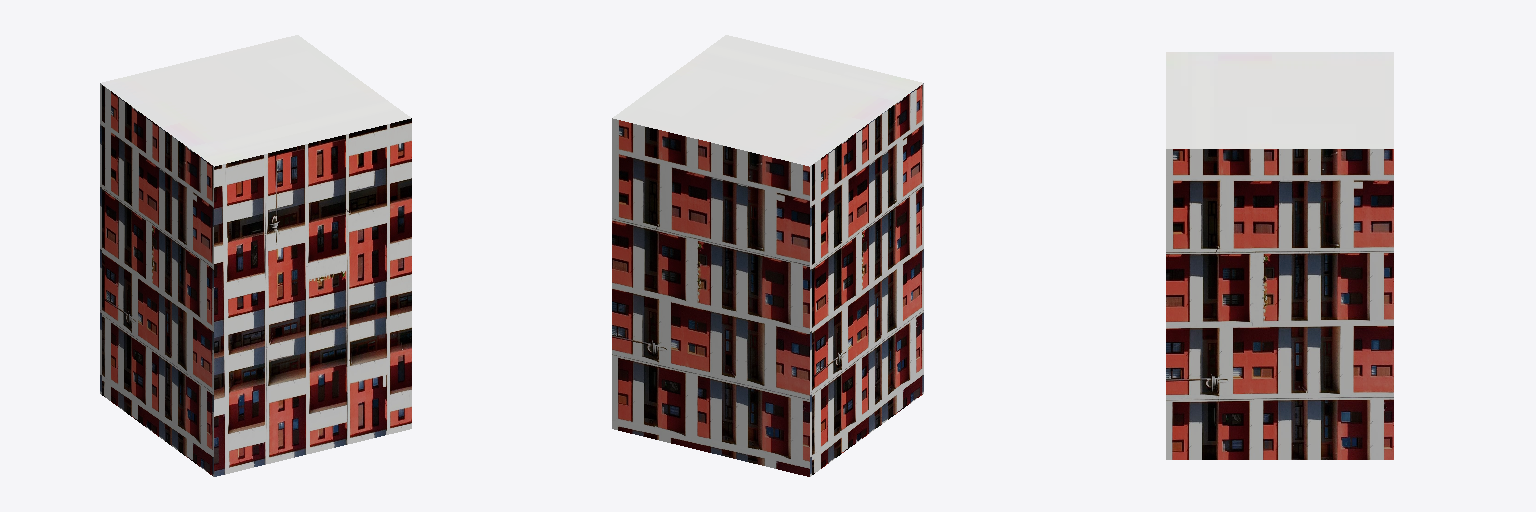
The picture shows the model from 3 angles: view 1: azimuth 30°, elevation 25°; view 2: azimuth 150°, elevation 25°; view 3: azimuth 270°, elevation 25°; orthographic projection.
Parts seen in each view (by area): view 1: Cube; view 2: Cube; view 3: Cube.
Boxes of the visible parts, box(x1,y1,x2,y2) form: Cube: box(100, 35, 411, 476); Cube: box(612, 35, 923, 476); Cube: box(1166, 52, 1393, 459).
Bounding box in the file's own units: 20 × 30 × 20.
Materials: 1 (1 with a texture image).